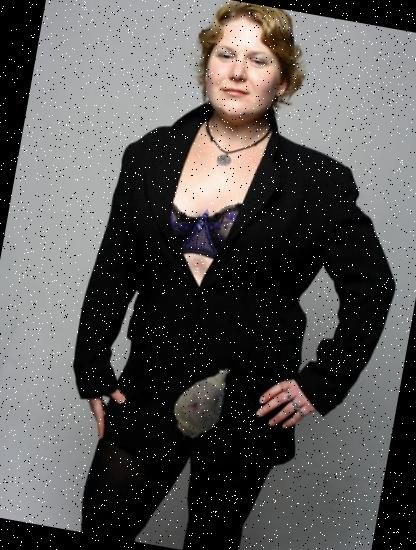Beetroot: (153, 352, 253, 452)
